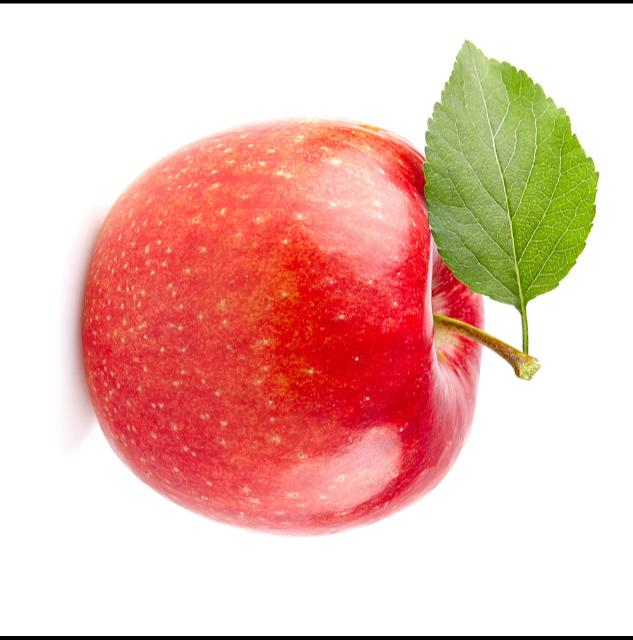Apples: (76, 36, 601, 538)
